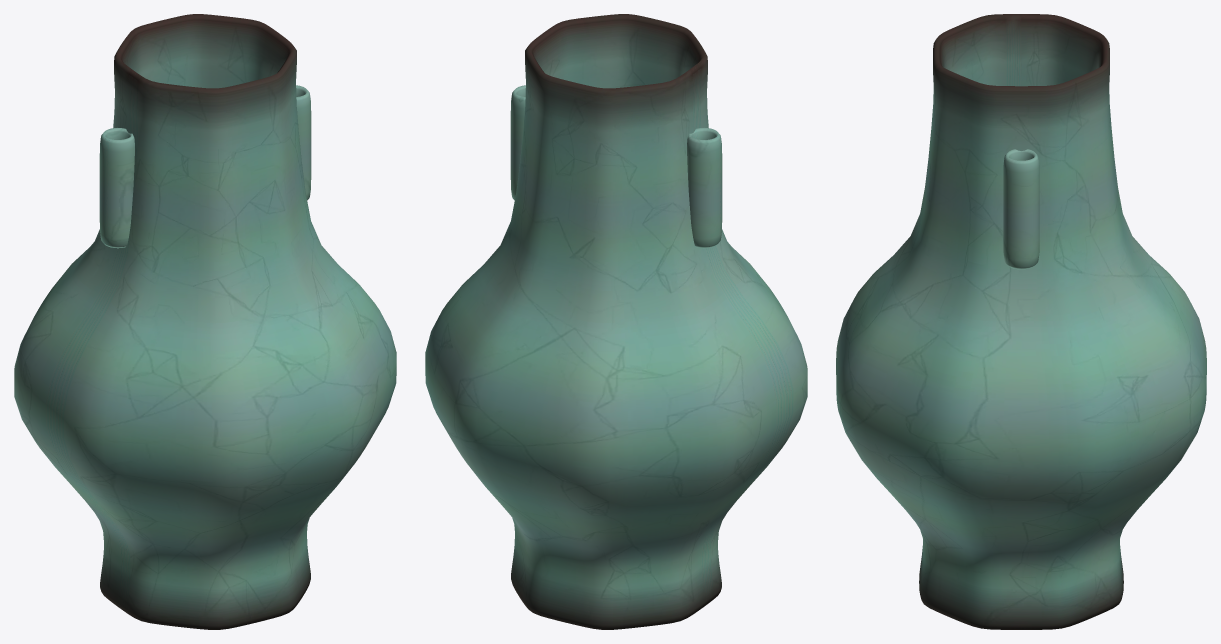
File: SongGuanYao_OctagonalVase_Master.glb
3 views of the same model, side by side, from view 1: azimuth 30°, elevation 25°; view 2: azimuth 150°, elevation 25°; view 3: azimuth 270°, elevation 25° (orthographic).
Parts seen in each view (by area): view 1: SongGuanYao_OctagonalVase_Ultra; view 2: SongGuanYao_OctagonalVase_Ultra; view 3: SongGuanYao_OctagonalVase_Ultra.
Part boxes in pixels (x1,y1,x2,y2): SongGuanYao_OctagonalVase_Ultra: [14, 14, 396, 629]; SongGuanYao_OctagonalVase_Ultra: [425, 14, 807, 629]; SongGuanYao_OctagonalVase_Ultra: [836, 14, 1206, 629].
Size of the model in its own units: 0.146 by 0.2341 by 0.146.
Materials: 1 (1 with a texture image).
